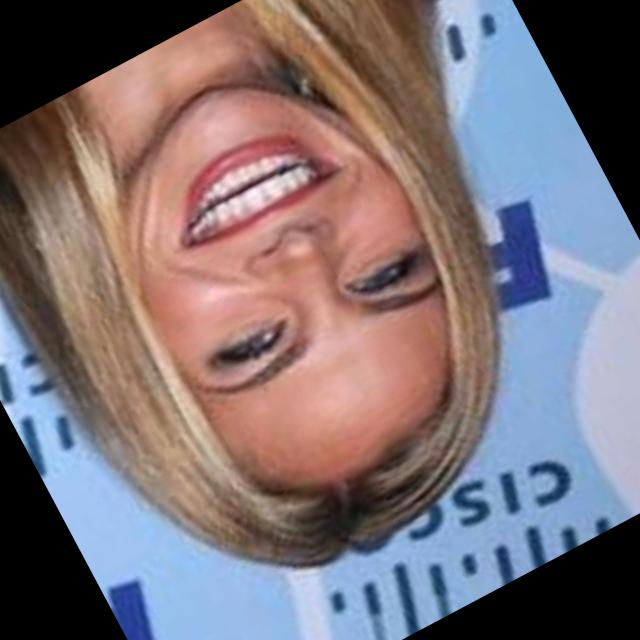bareface: (46, 30, 542, 563)
